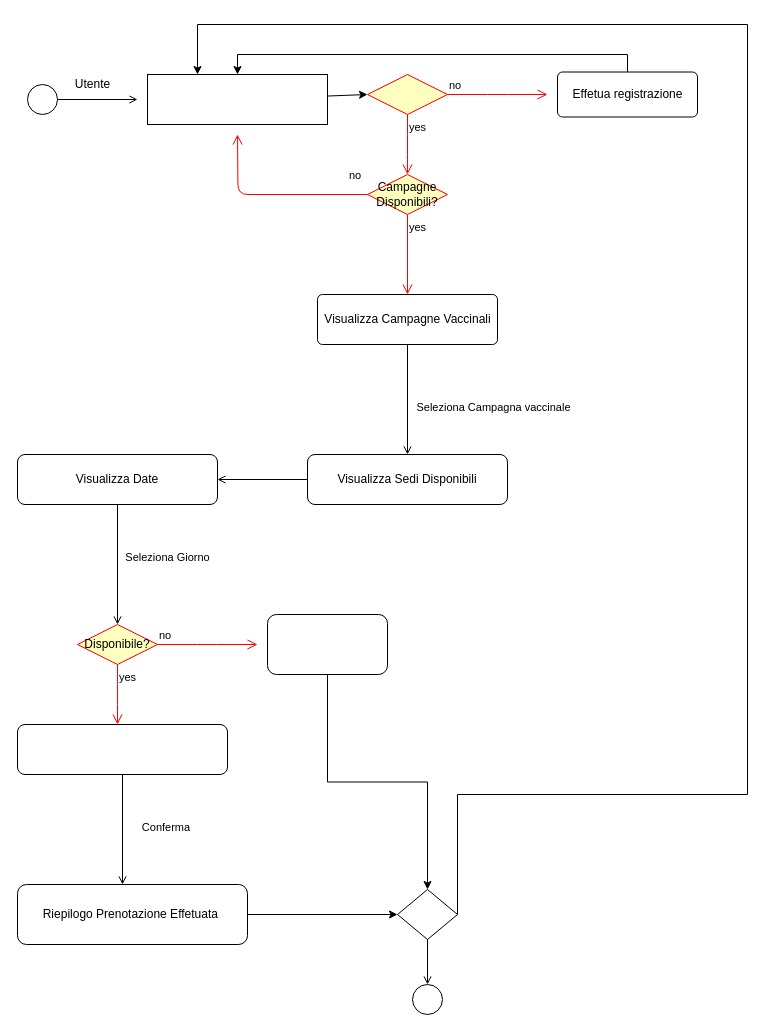
This 773x1032 diagram has some shape labels left out. Each missing label, with the box of its shape:
Imposta notifica di ricezione avviso disponibilitá: (266, 614, 388, 674)
Inserimento Codice Fiscale: (146, 74, 328, 124)
Registrato?: (366, 74, 448, 114)
Visualizza Slot Orari: (16, 724, 228, 774)
